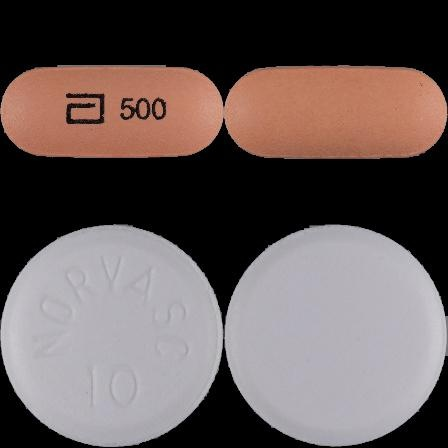49999-475: (0, 0, 224, 224)
